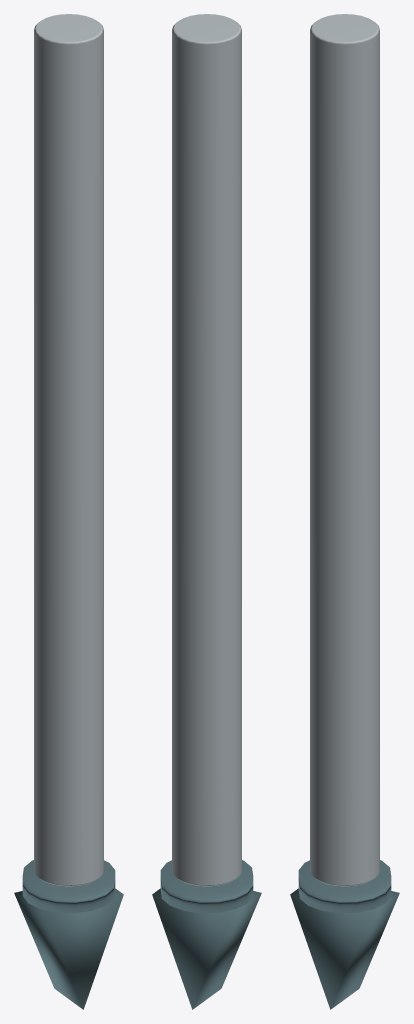
File: VLAB_follower.fbx
3 renders of one model, left to right at view 1: azimuth 30°, elevation 25°; view 2: azimuth 150°, elevation 25°; view 3: azimuth 330°, elevation 25°, orthographic.
Parts seen in each view (by area): view 1: VLAB_follower_Stem_VIS, VLAB_follower_Head_VIS; view 2: VLAB_follower_Stem_VIS, VLAB_follower_Head_VIS; view 3: VLAB_follower_Stem_VIS, VLAB_follower_Head_VIS.
Boxes of the visible parts, left/top/right/bottom form: VLAB_follower_Stem_VIS: left=34, top=14, right=103, bottom=886; VLAB_follower_Head_VIS: left=14, top=860, right=123, bottom=1009; VLAB_follower_Stem_VIS: left=172, top=14, right=241, bottom=886; VLAB_follower_Head_VIS: left=152, top=860, right=261, bottom=1009; VLAB_follower_Stem_VIS: left=310, top=14, right=379, bottom=886; VLAB_follower_Head_VIS: left=290, top=860, right=399, bottom=1009.
Bounding box in the file's own units: 0.008 × 0.092 × 0.008.
